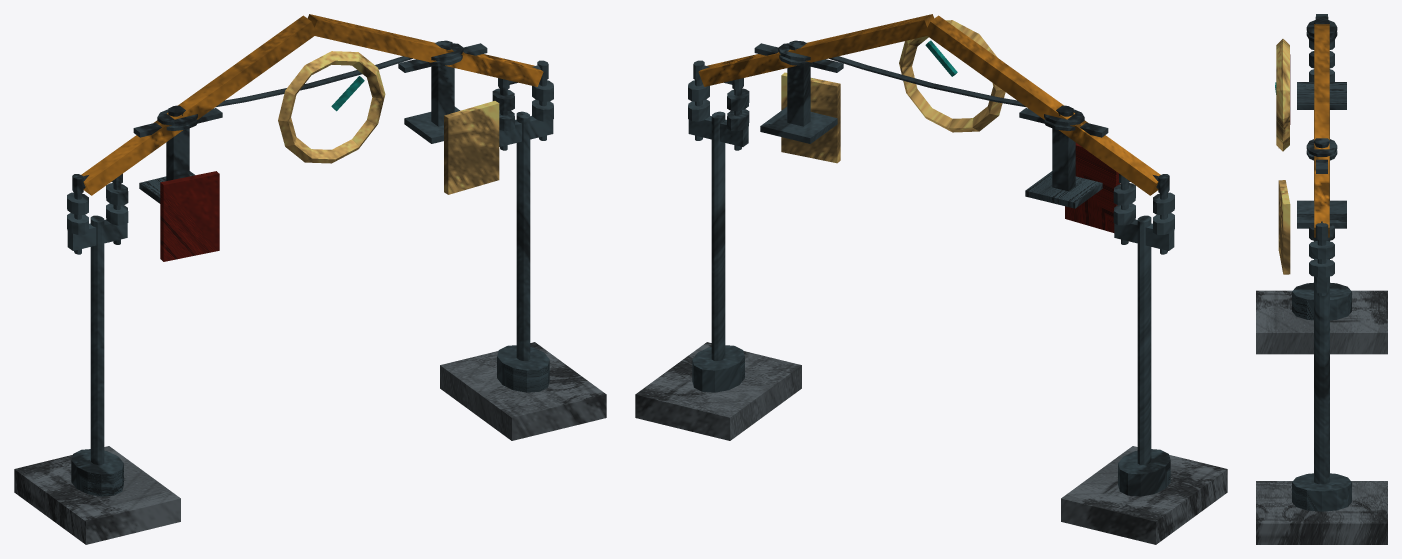
File: south-midway-admission-arch.glb
3 renders of one model, left to right at view 1: azimuth 30°, elevation 25°; view 2: azimuth 150°, elevation 25°; view 3: azimuth 270°, elevation 25°, orthographic. The views are drawn at different scales.
Visible parts, largest first — view 1: south-midway-admission-arch; view 2: south-midway-admission-arch; view 3: south-midway-admission-arch.
Part boxes in pixels (x1,y1,x2,y2): south-midway-admission-arch: (14, 14, 606, 544); south-midway-admission-arch: (635, 14, 1227, 544); south-midway-admission-arch: (1256, 14, 1387, 544).
Size of the model in its own units: 7.95 by 6.38 by 1.9.
1 material, 1 textured.
